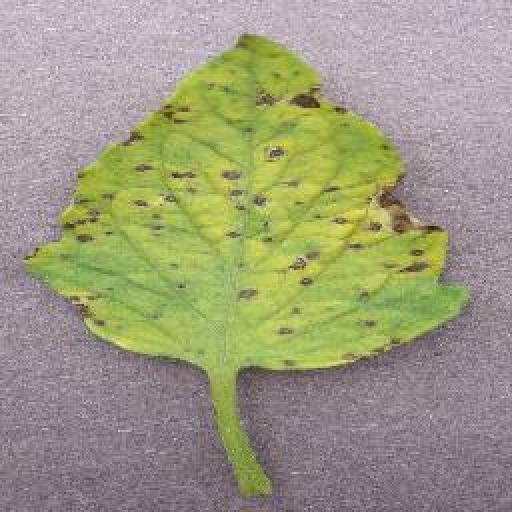disease_tomato: (32, 32, 470, 372)
